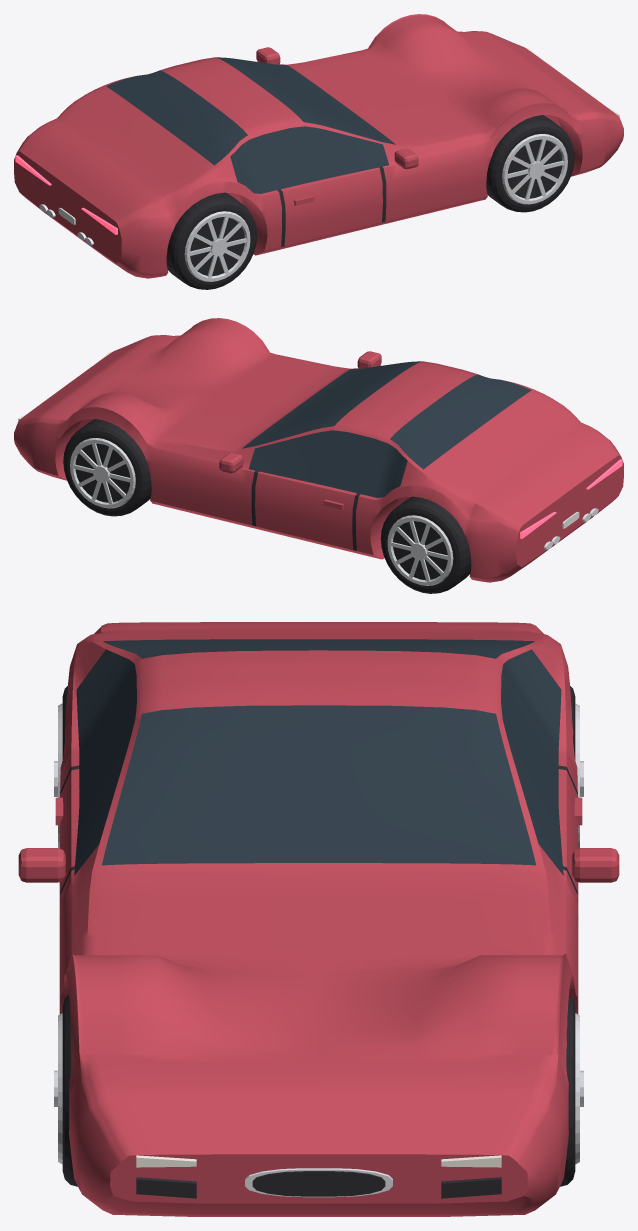
The model's file is jagwar_ftype.fbx.
The picture shows the model from 3 angles, top to bottom: view 1: azimuth 30°, elevation 25°; view 2: azimuth 150°, elevation 25°; view 3: azimuth 270°, elevation 25°; orthographic projection. The views are drawn at different scales.
Visible parts, largest first — view 1: Body.014, Glass.014, Tire.014, Rim.014, Trim.014, TailLight.014; view 2: Body.014, Glass.014, Tire.014, Rim.014, Trim.014, TailLight.014; view 3: Body.014, Glass.014, Trim.014, Tire.014, Rim.014, HeadLight.014, Chrome.013.
Boxes of the visible parts, box(x1,y1,x2,y2) form: Body.014: box(14, 14, 623, 278); Glass.014: box(106, 57, 395, 193); Tire.014: box(166, 115, 574, 289); Rim.014: box(184, 134, 567, 281); Trim.014: box(190, 141, 562, 276); TailLight.014: box(15, 155, 117, 234); Body.014: box(14, 318, 623, 582); Glass.014: box(242, 361, 531, 497); Tire.014: box(63, 419, 471, 593); Rim.014: box(70, 438, 453, 585); Trim.014: box(79, 444, 447, 580); TailLight.014: box(520, 459, 622, 538); Body.014: box(18, 622, 619, 1216); Glass.014: box(74, 639, 563, 875); Trim.014: box(59, 765, 578, 1198); Tire.014: box(62, 686, 575, 1186); Rim.014: box(54, 703, 583, 1164); HeadLight.014: box(136, 1155, 501, 1167); Chrome.013: box(245, 1168, 392, 1197).
Size of the model in its own units: 1494 by 378 by 764.
